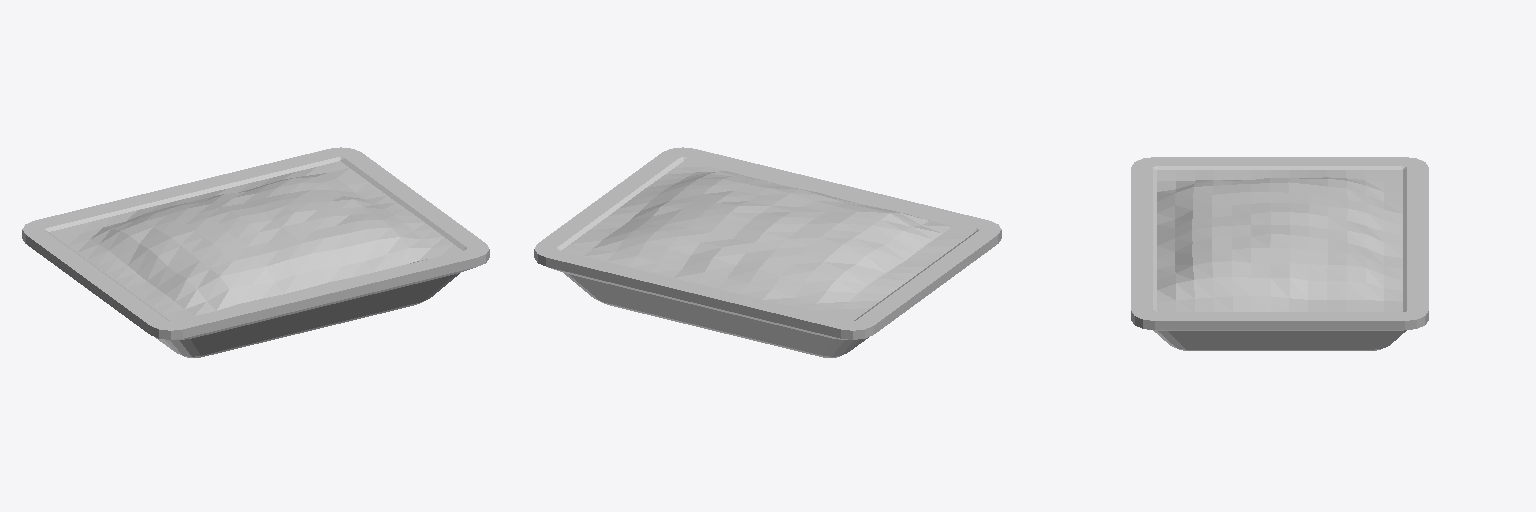
The model's file is meat_1.obj.
3 renders of one model, left to right at view 1: azimuth 30°, elevation 25°; view 2: azimuth 150°, elevation 25°; view 3: azimuth 270°, elevation 25°, orthographic.
Visible parts, largest first — view 1: meat_1; view 2: meat_1; view 3: meat_1.
Boxes of the visible parts, <box> form: meat_1: <box>22,147,489,357</box>; meat_1: <box>534,147,1001,357</box>; meat_1: <box>1131,157,1428,350</box>.
Size of the model in its own units: 0.342 by 0.0752 by 0.2619.